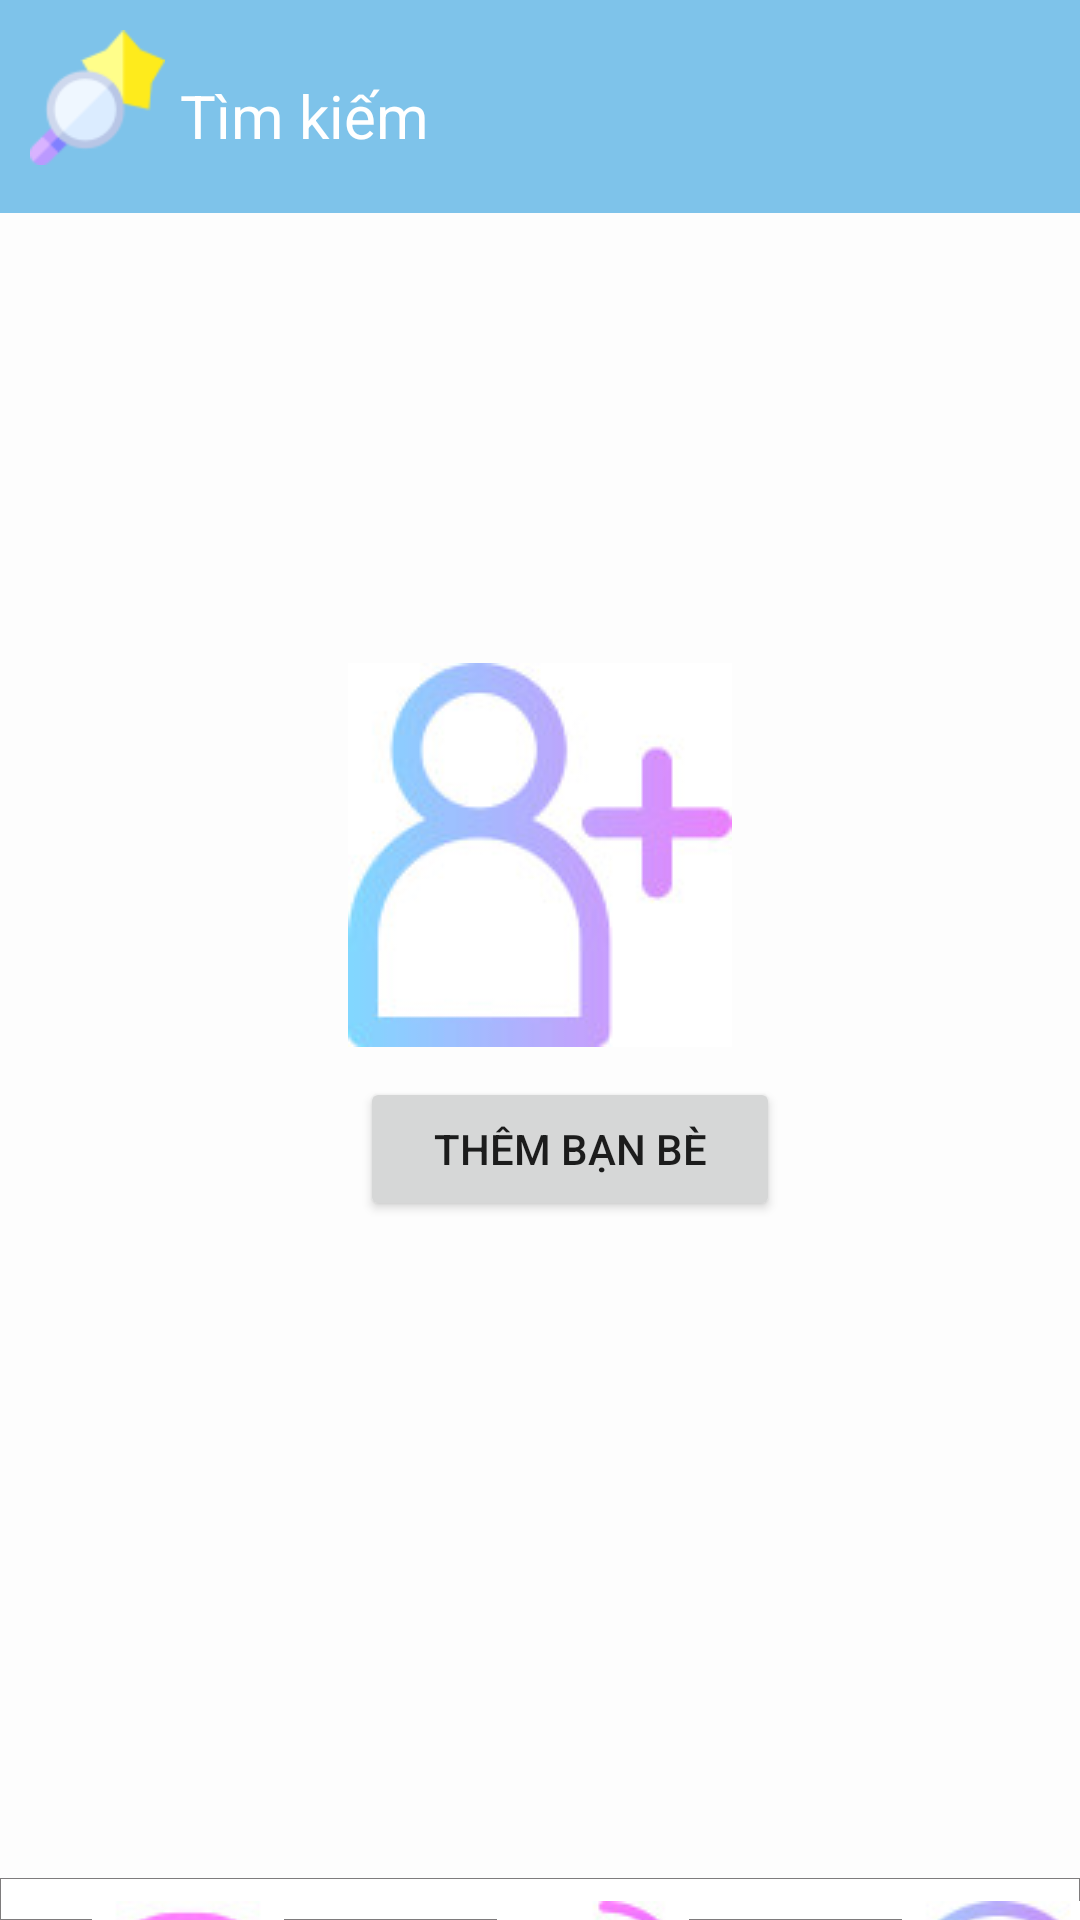

Icon bounding boxes for this 1080px×1920px phone screenshot, format [x1, y1, x2, y2]:
ngoisao: [30, 30, 165, 165]
